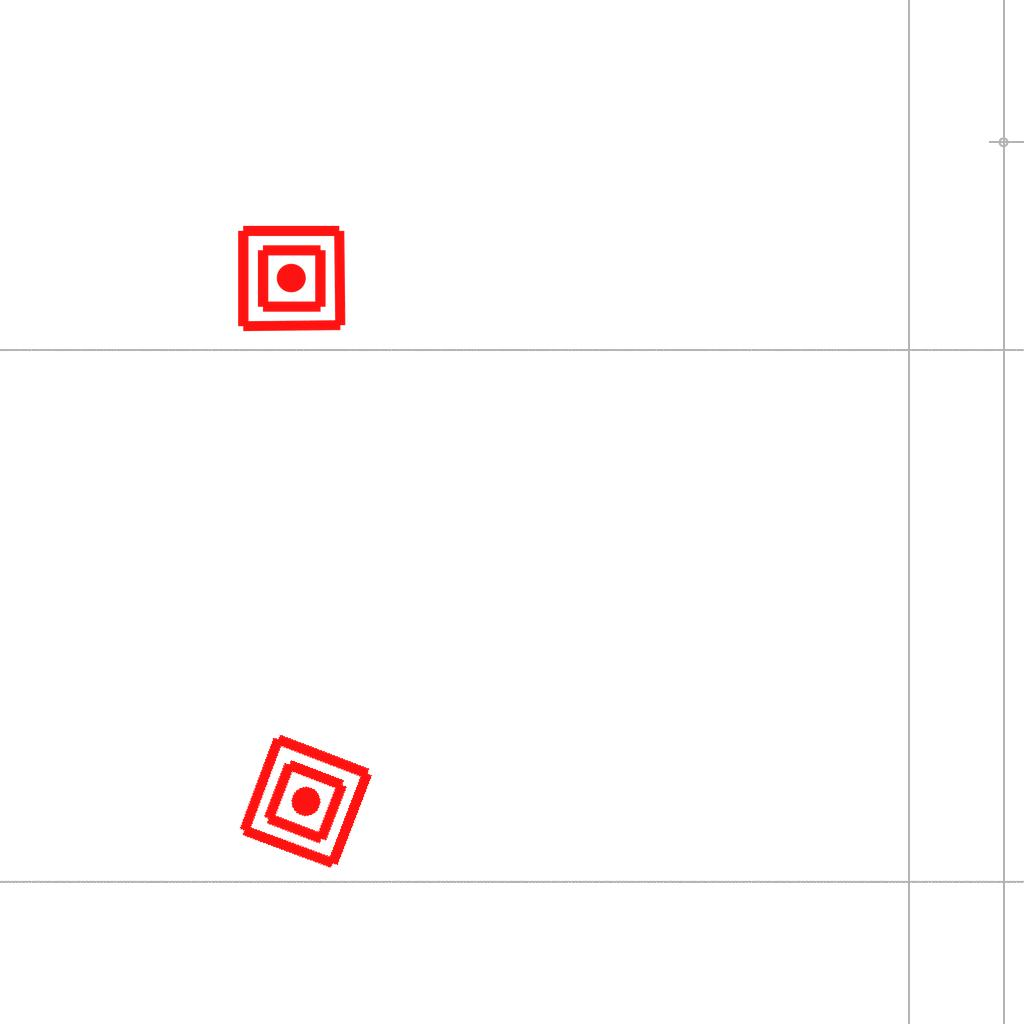NAM-Nichtautomatischer_Melder: (232, 728, 379, 875), (235, 222, 348, 335)
